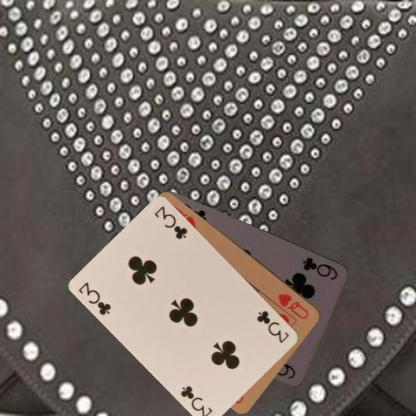3c: (76, 279, 112, 317), (254, 308, 291, 344)
6c: (300, 254, 339, 282)
Qh: (276, 290, 310, 320)
